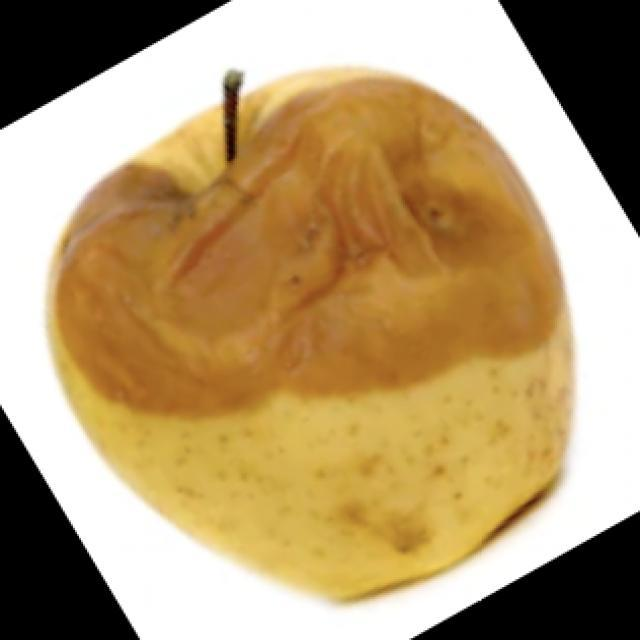Rotten: (52, 73, 583, 615)
